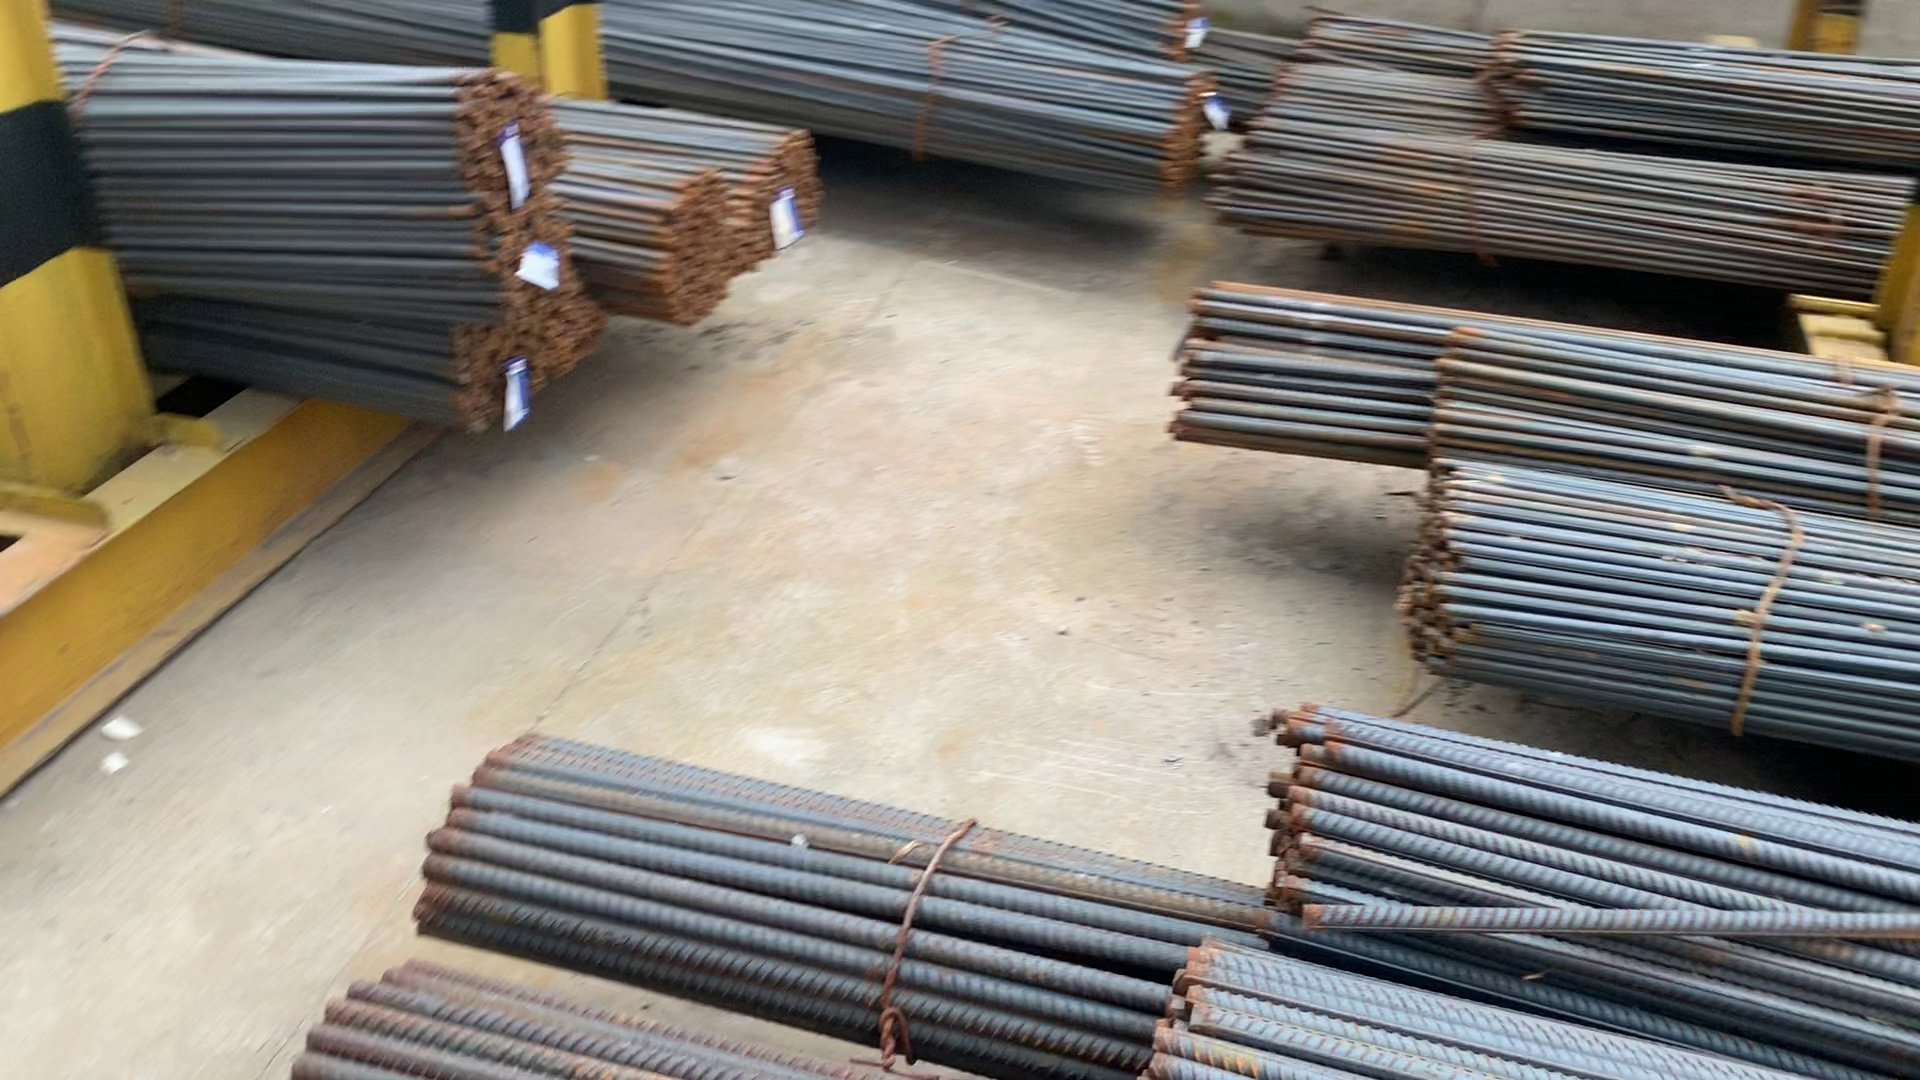rebar: (431, 281, 618, 415), (442, 76, 560, 287), (650, 185, 727, 313), (745, 131, 822, 253), (1168, 76, 1211, 198)
